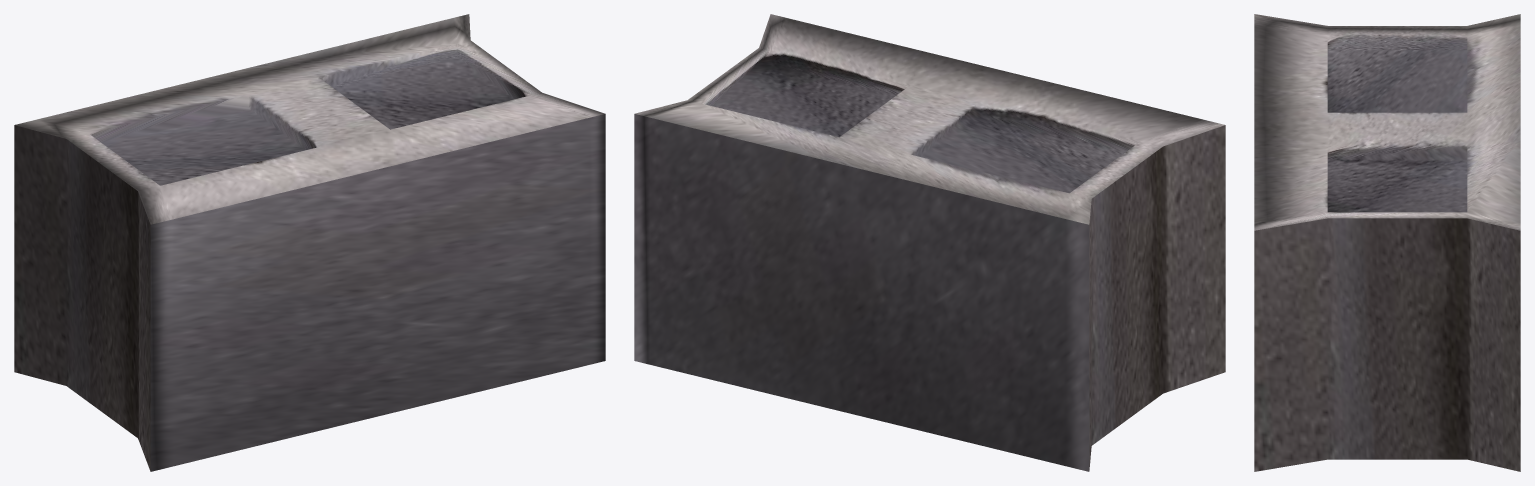
Rendered from BrickWithHoles.fbx.
3 views of the same model, side by side, from view 1: azimuth 30°, elevation 25°; view 2: azimuth 150°, elevation 25°; view 3: azimuth 270°, elevation 25° (orthographic). The views are drawn at different scales.
Visible parts, largest first — view 1: BrickWithHoles; view 2: BrickWithHoles; view 3: BrickWithHoles.
Part boxes in pixels (bbox=[...]): BrickWithHoles: bbox=[14, 14, 605, 471]; BrickWithHoles: bbox=[634, 14, 1225, 471]; BrickWithHoles: bbox=[1254, 14, 1520, 471].
Bounding box in the file's own units: 24 × 12.45 × 12.45.
Materials: 1 (1 with a texture image).
